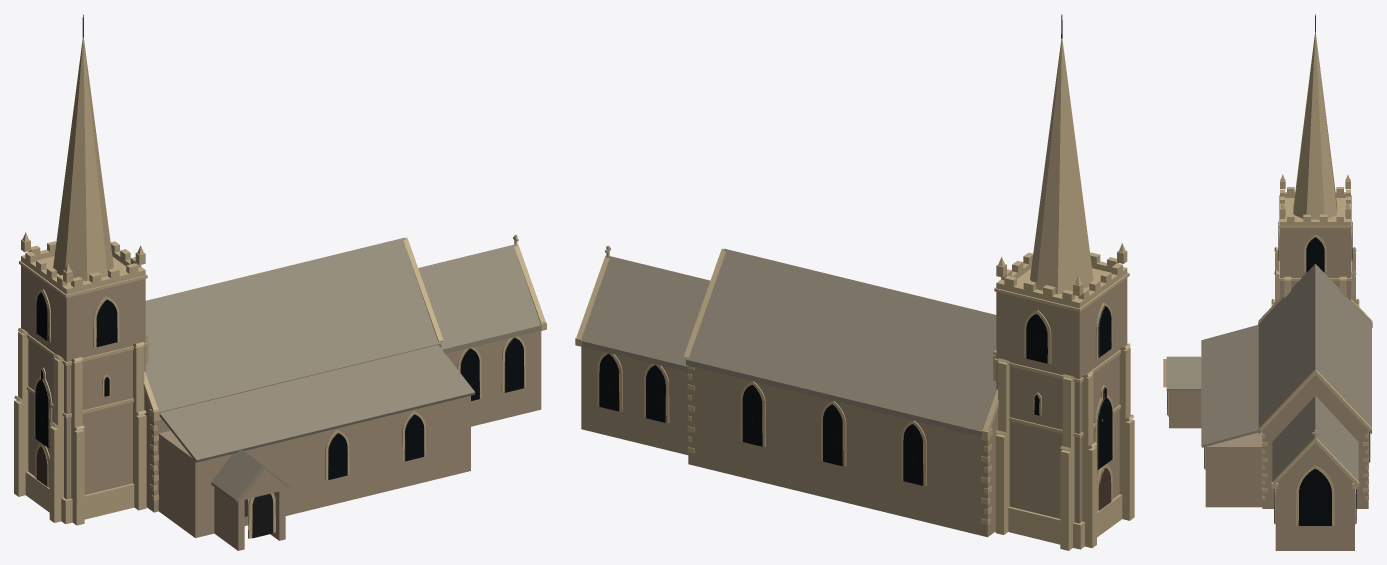
The model's file is context.church.cots_needle.glb.
The picture shows the model from 3 angles, left to right: view 1: azimuth 30°, elevation 25°; view 2: azimuth 150°, elevation 25°; view 3: azimuth 270°, elevation 25°; orthographic projection. The views are drawn at different scales.
Visible parts, largest first — view 1: main__clad_987, main__stone_a97, main__stone_ca8, main__glass_dark, main__stone_986, main__timber_111; view 2: main__stone_a97, main__clad_987, main__stone_ca8, main__glass_dark, main__stone_986; view 3: main__clad_987, main__stone_a97, main__stone_ca8, main__glass_dark, main__stone_986.
Boxes of the visible parts, box(x1,y1,x2,y2) form: main__clad_987: box(145, 237, 540, 502); main__stone_a97: box(21, 265, 541, 550); main__stone_ca8: box(14, 37, 546, 538); main__glass_dark: box(35, 292, 524, 479); main__stone_986: box(35, 292, 524, 537); main__timber_111: box(252, 493, 272, 538); main__stone_a97: box(581, 278, 1127, 537); main__clad_987: box(580, 248, 996, 437); main__stone_ca8: box(575, 38, 1134, 550); main__glass_dark: box(599, 306, 1112, 485); main__stone_986: box(599, 306, 1112, 510); main__clad_987: box(1166, 263, 1371, 482); main__stone_a97: box(1163, 228, 1368, 550); main__stone_ca8: box(1168, 32, 1372, 525); main__glass_dark: box(1204, 222, 1369, 525); main__stone_986: box(1167, 222, 1370, 523).
Size of the model in its own units: 30.57 by 29.1 by 14.8.
